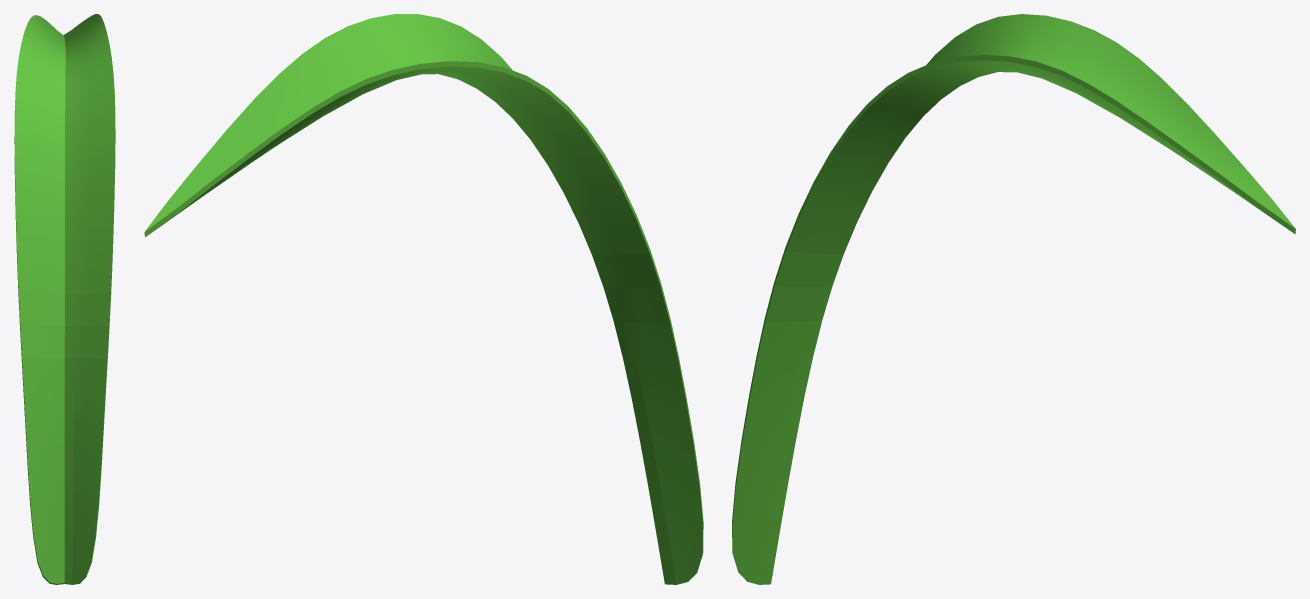
Rendered from rumput-2.fbx.
3 views of the same model, side by side, from view 1: azimuth 30°, elevation 25°; view 2: azimuth 150°, elevation 25°; view 3: azimuth 270°, elevation 25° (orthographic). The views are drawn at different scales.
Visible parts, largest first — view 1: Plane.005; view 2: Plane.005; view 3: Plane.005.
Part boxes in pixels (box(x1,y1,x2,y2)): Plane.005: box(14, 14, 115, 584); Plane.005: box(144, 14, 703, 584); Plane.005: box(732, 14, 1295, 584).
Size of the model in its own units: 85.41 by 166 by 138.
